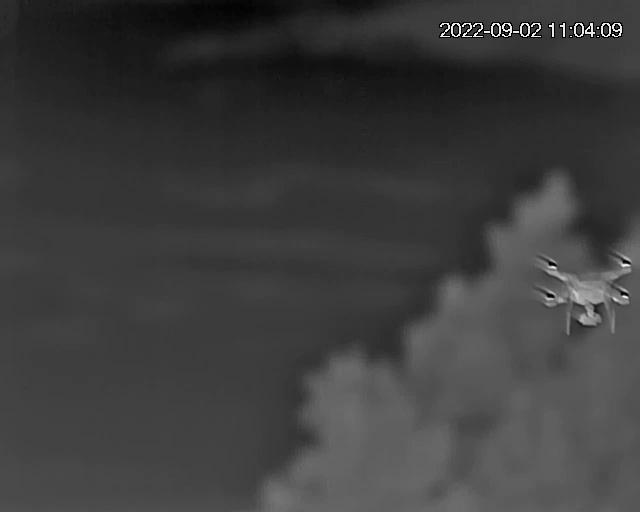DJI-Phantom: (536, 251, 635, 338)
